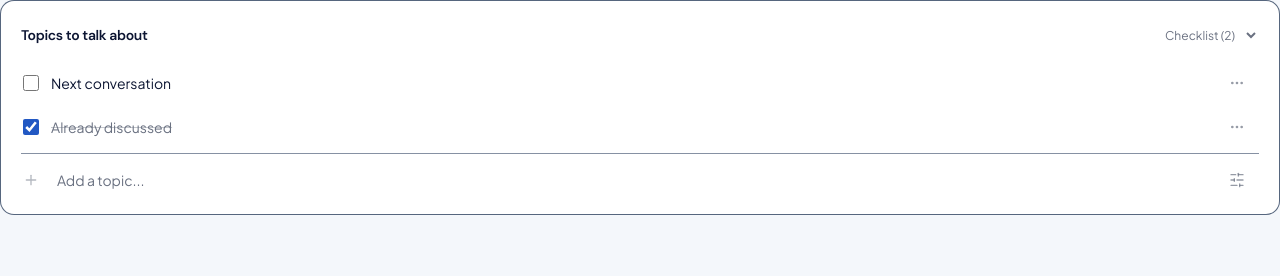
Test: topics panel › shows recent completed topics checked in the default checklist and reopens them by checkbox
Expected: the dropdown named "Topic view" shows "Checklist (2)", top-left (1153, 13), bottom-right (1259, 57)
Click the checkbox labelled "Already discussed" at (31, 127), box top-left (23, 119), bottom-right (39, 135)
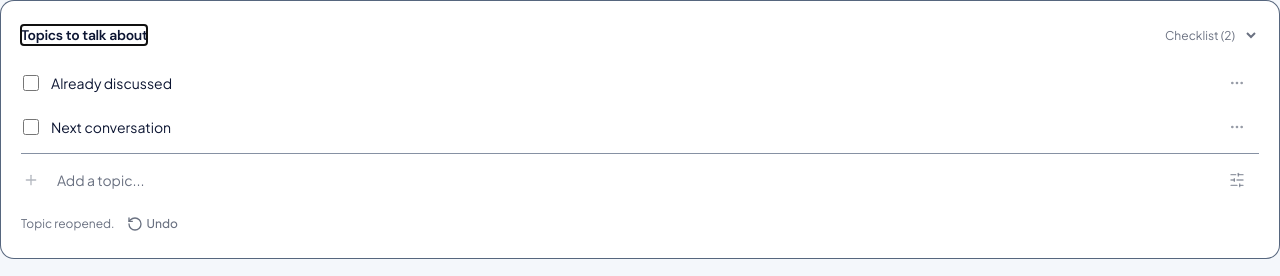
Expected: the checkbox labelled "Already discussed" is not checked, top-left (23, 75), bottom-right (39, 91)
Expected: the text "Topic reopened." is shown, top-left (21, 216), bottom-right (114, 232)
